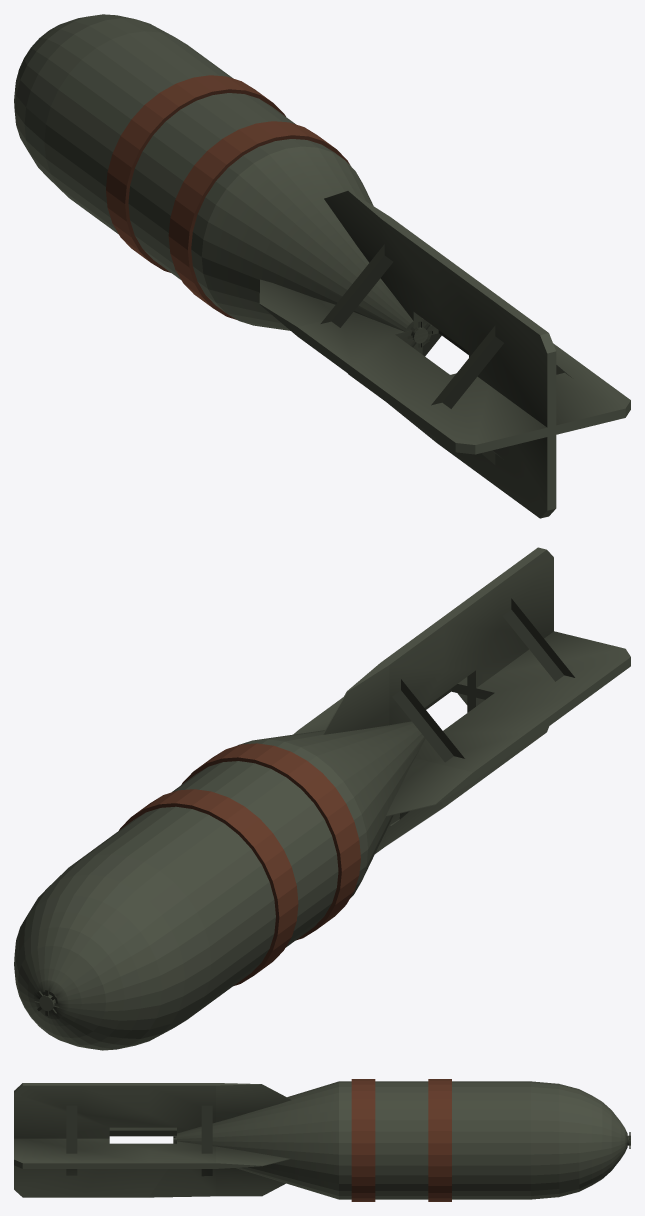
The model's file is w_fab1000.glb.
The picture shows the model from 3 angles, top to bottom: view 1: azimuth 30°, elevation 25°; view 2: azimuth 150°, elevation 25°; view 3: azimuth 270°, elevation 25°; orthographic projection. The views are drawn at different scales.
Parts seen in each view (by area): view 1: body|Black, body|Brown; view 2: body|Black, body|Brown; view 3: body|Black, body|Brown.
Part boxes in pixels (bbox=[...]): body|Black: bbox=[14, 14, 630, 518]; body|Brown: bbox=[106, 75, 350, 319]; body|Black: bbox=[14, 547, 630, 1050]; body|Brown: bbox=[119, 743, 360, 985]; body|Black: bbox=[14, 1081, 627, 1199]; body|Brown: bbox=[351, 1079, 451, 1201].
Size of the model in its own units: 0.6743 by 0.6711 by 3.35.
